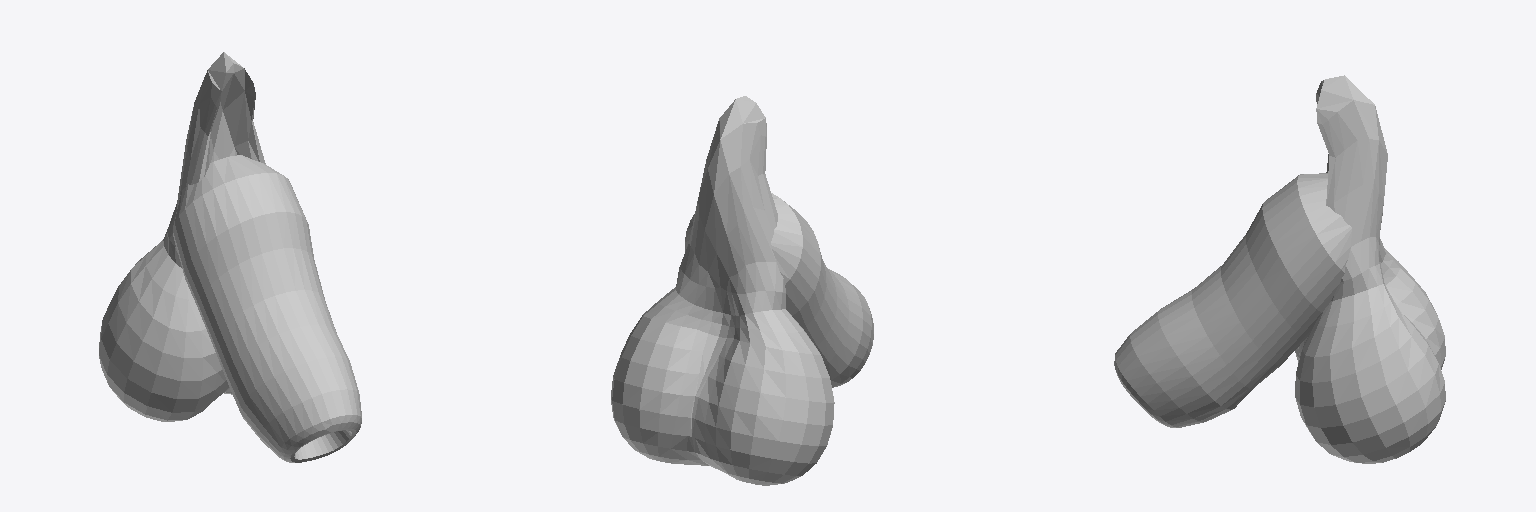
The model's file is Dick_in_sheath 2.7.obj.
3 views of the same model, side by side, from view 1: azimuth 30°, elevation 25°; view 2: azimuth 150°, elevation 25°; view 3: azimuth 270°, elevation 25° (orthographic).
Parts seen in each view (by area): view 1: dick_in_sheath.005_horsecock.009; view 2: dick_in_sheath.005_horsecock.009; view 3: dick_in_sheath.005_horsecock.009.
Part boxes in pixels (bbox=[...]): dick_in_sheath.005_horsecock.009: bbox=[99, 52, 361, 462]; dick_in_sheath.005_horsecock.009: bbox=[611, 96, 873, 485]; dick_in_sheath.005_horsecock.009: bbox=[1114, 75, 1445, 463].
Size of the model in its own units: 14.58 by 24.83 by 20.65.